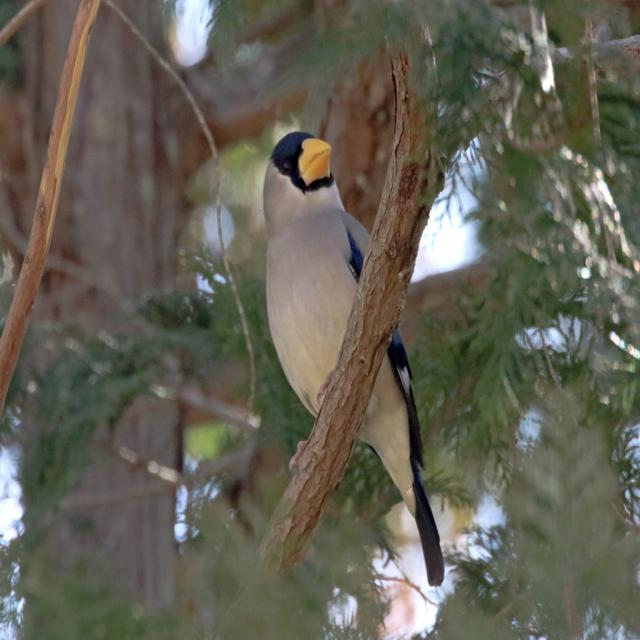bird: (252, 120, 450, 590)
